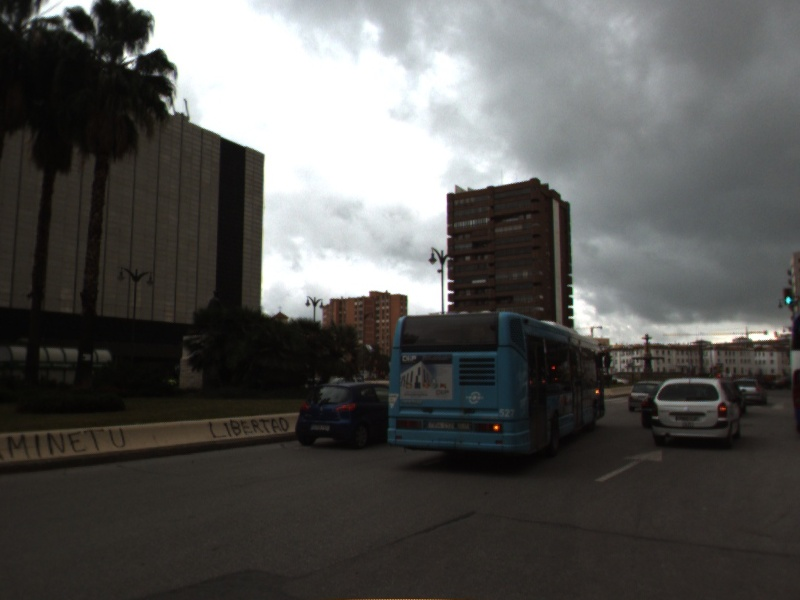STRAIGHT: (592, 448, 664, 484)
